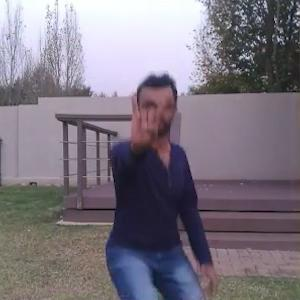takeoff-hand: (123, 83, 165, 143)
